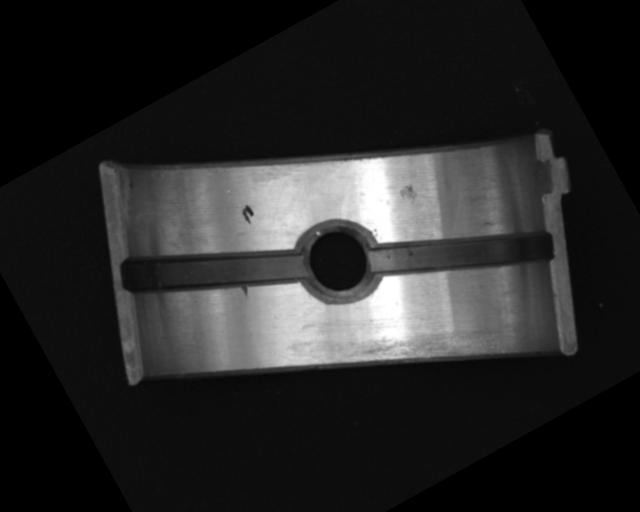blot: (238, 201, 260, 228)
bruise: (396, 181, 420, 207), (239, 282, 253, 299)
gap: (118, 186, 311, 353), (367, 176, 558, 336)
hole: (285, 206, 392, 317)
scratch: (333, 272, 525, 430)
